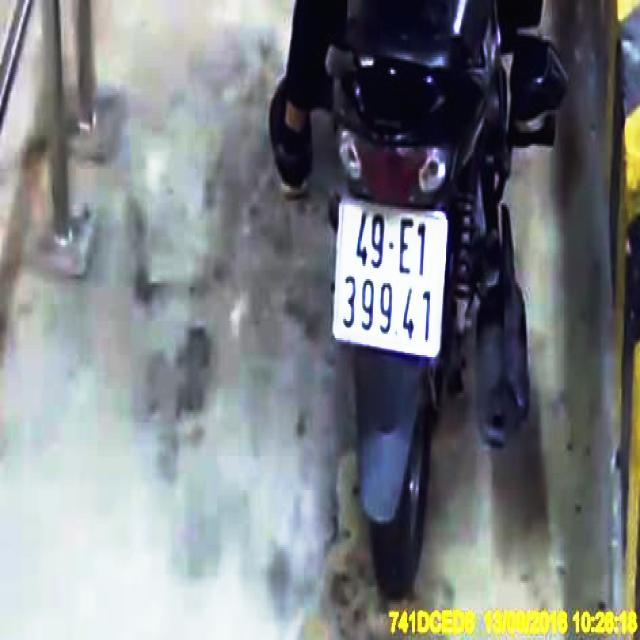license_plate: (335, 196, 447, 355)
